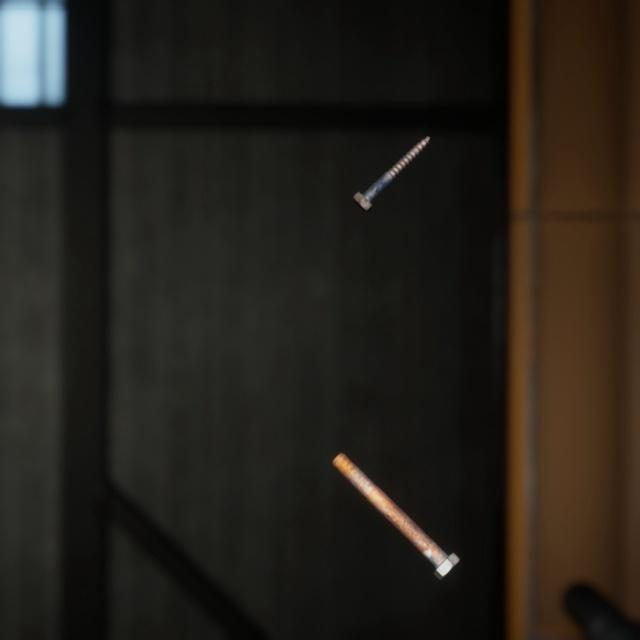bolt: (327, 427, 464, 563), (348, 119, 435, 203)
